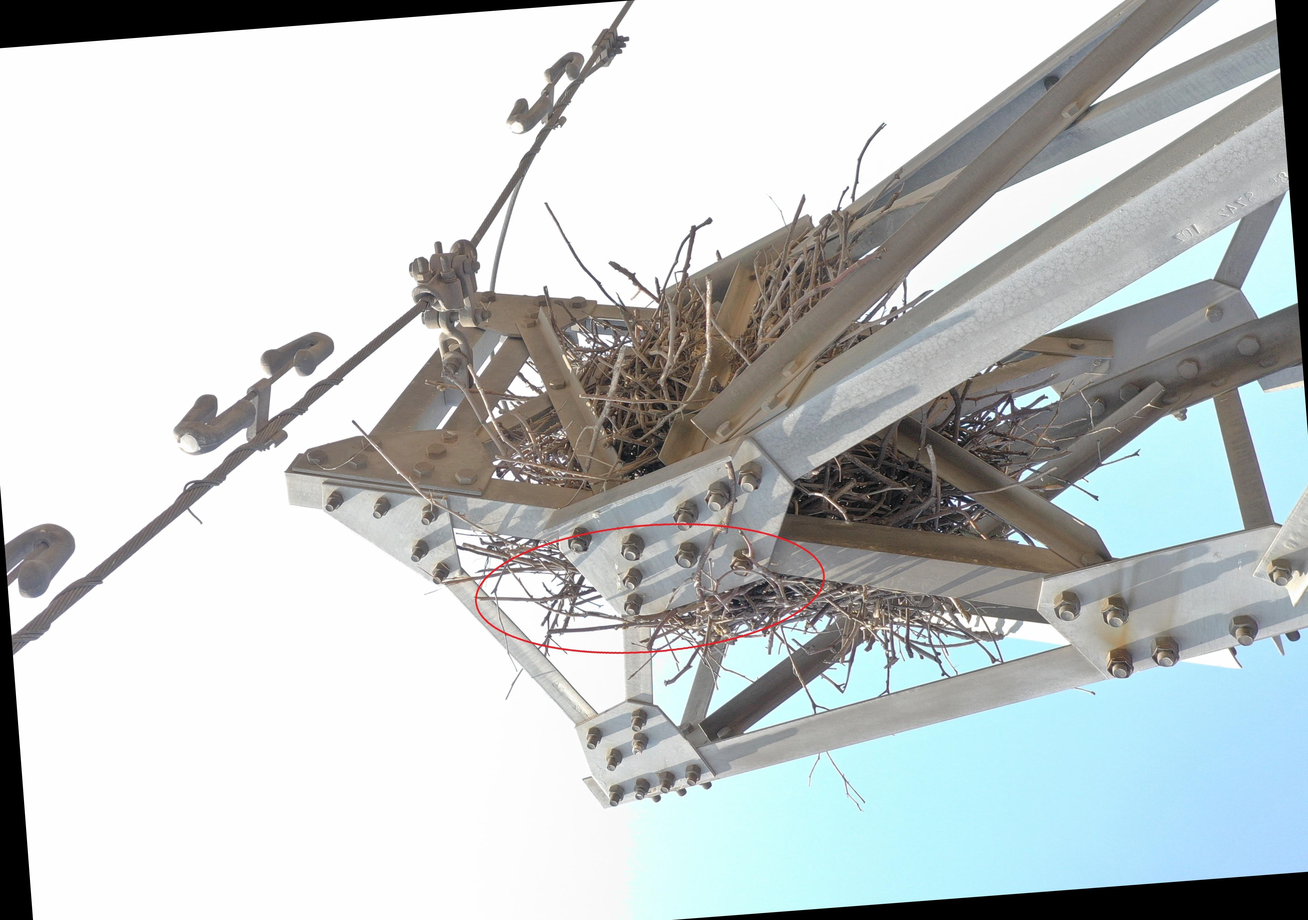damper: (159, 325, 352, 467), (0, 510, 97, 721), (490, 44, 602, 144)
